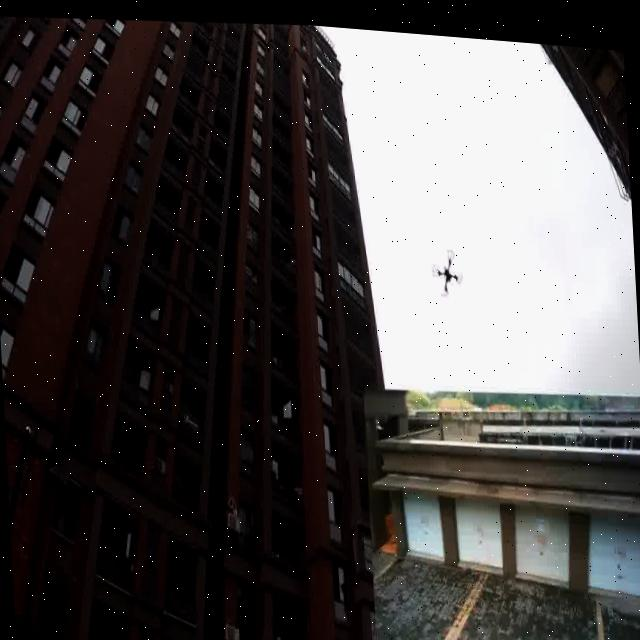drone: (431, 239, 464, 288)
